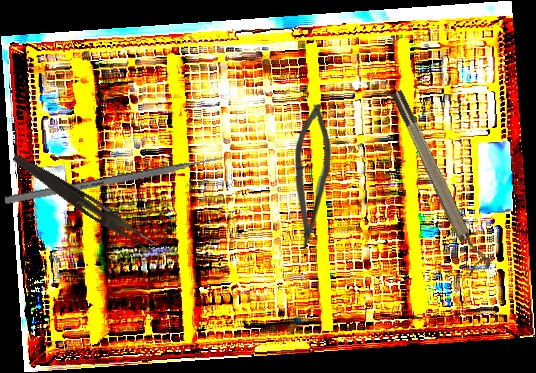Dressing Forceps: (7, 151, 162, 255)
Fixation Ring: (387, 85, 494, 277)
Micro Scissor: (293, 103, 332, 249)
Pusher: (4, 151, 236, 206)
